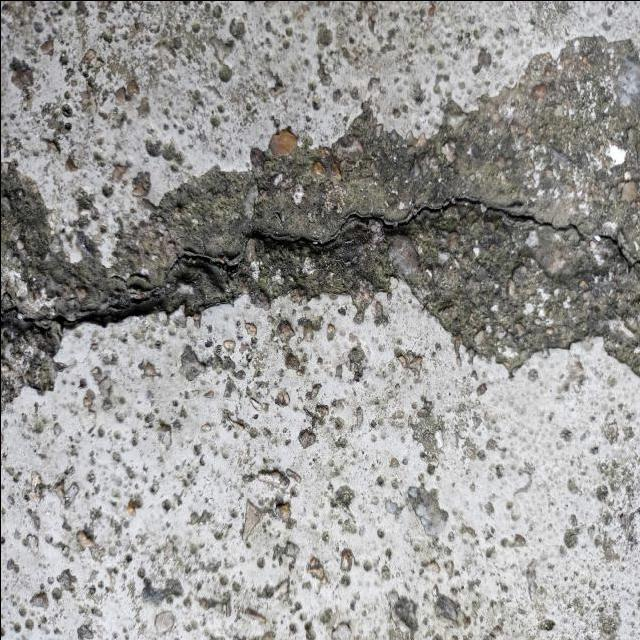SurfaceCrack: (0, 169, 639, 471)
